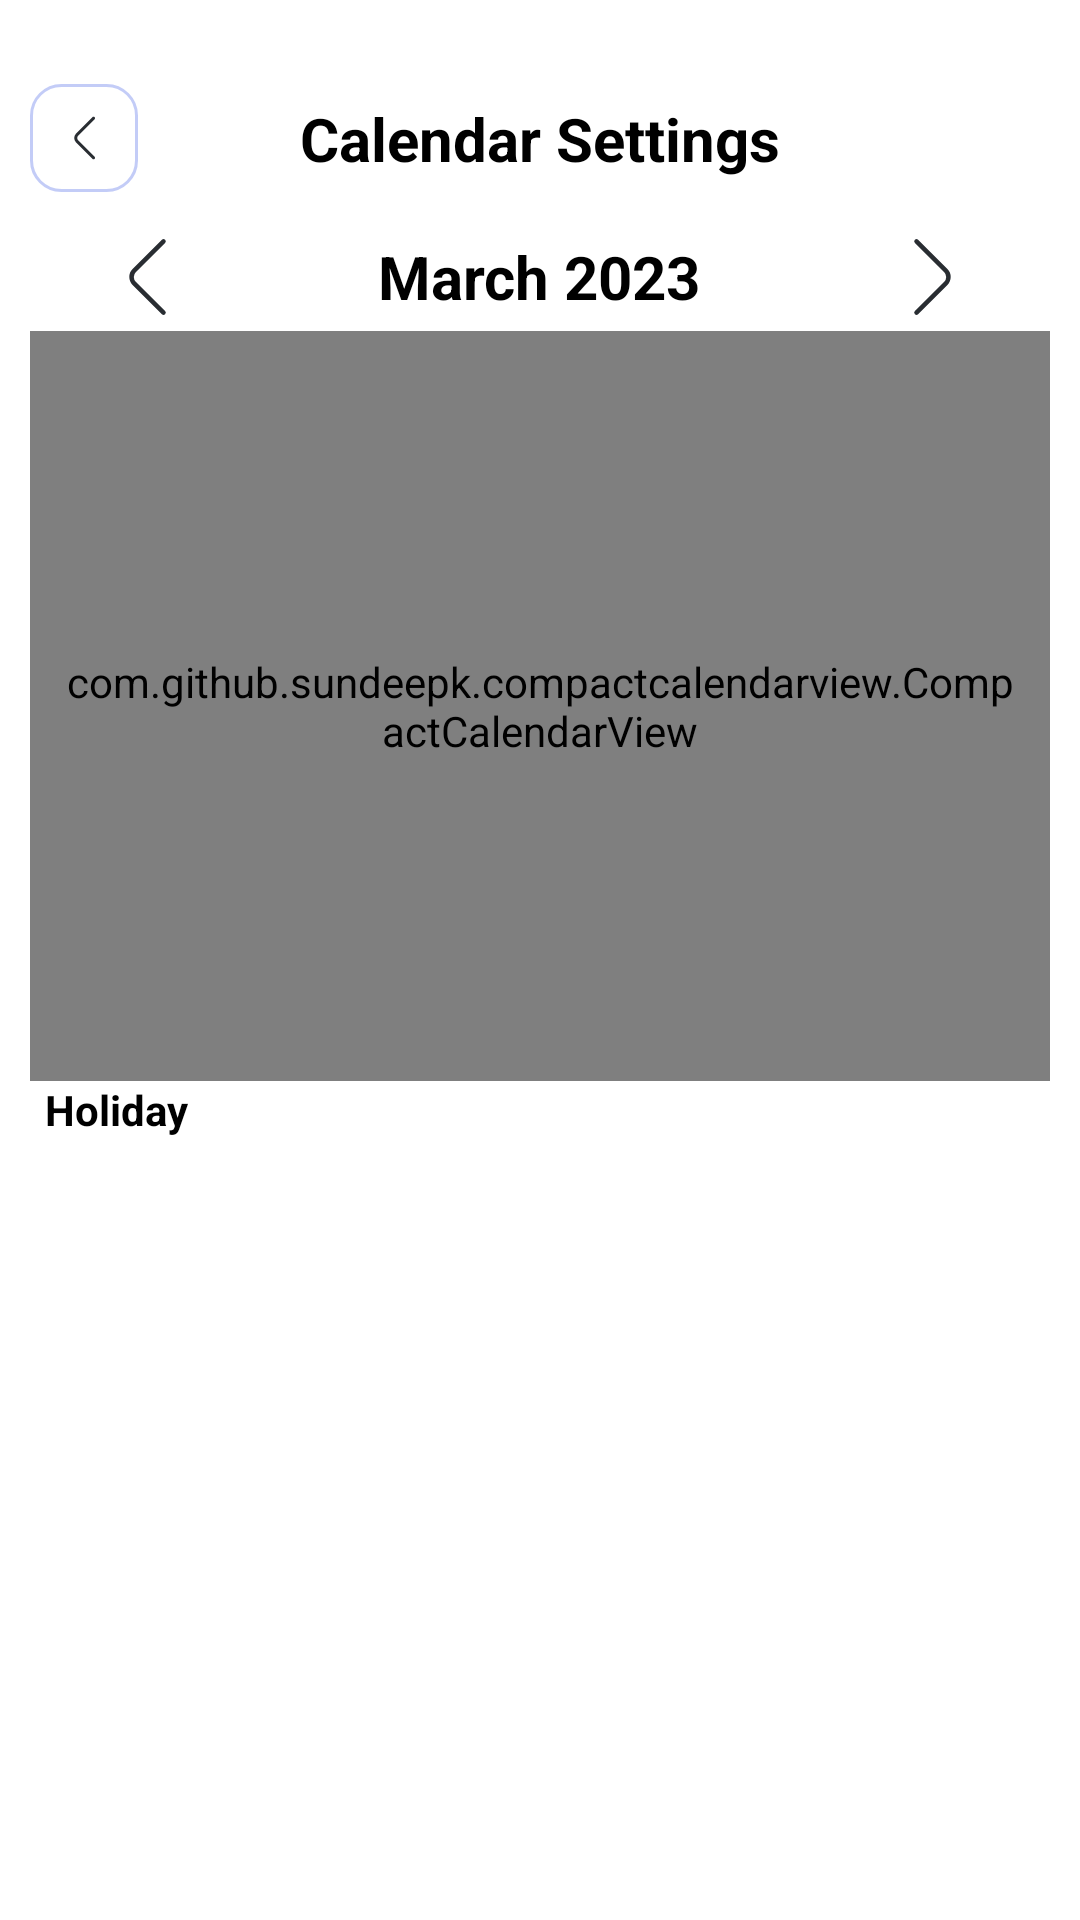

Icons on this 1080px x 1920px Android screen, each with the point to tap as (x,y):
back arrow: (84,138)
next: (932,277)
